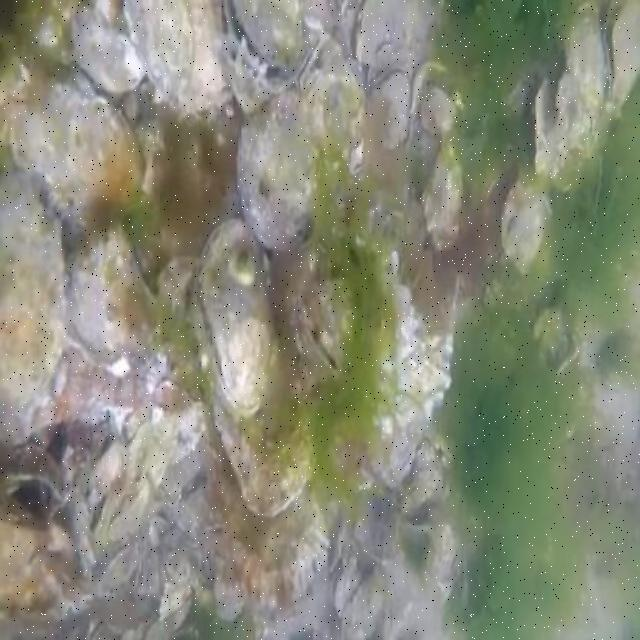Oyster-Closed: (238, 64, 365, 247), (215, 325, 317, 520), (8, 76, 142, 223), (0, 178, 70, 447), (191, 219, 281, 420), (66, 229, 162, 371), (124, 0, 230, 120), (52, 0, 145, 90), (294, 282, 351, 381), (422, 141, 464, 241), (602, 0, 638, 114), (368, 68, 412, 148), (294, 31, 328, 93)
Oyster-Open: (535, 5, 614, 194), (225, 0, 305, 87), (223, 36, 270, 116)
